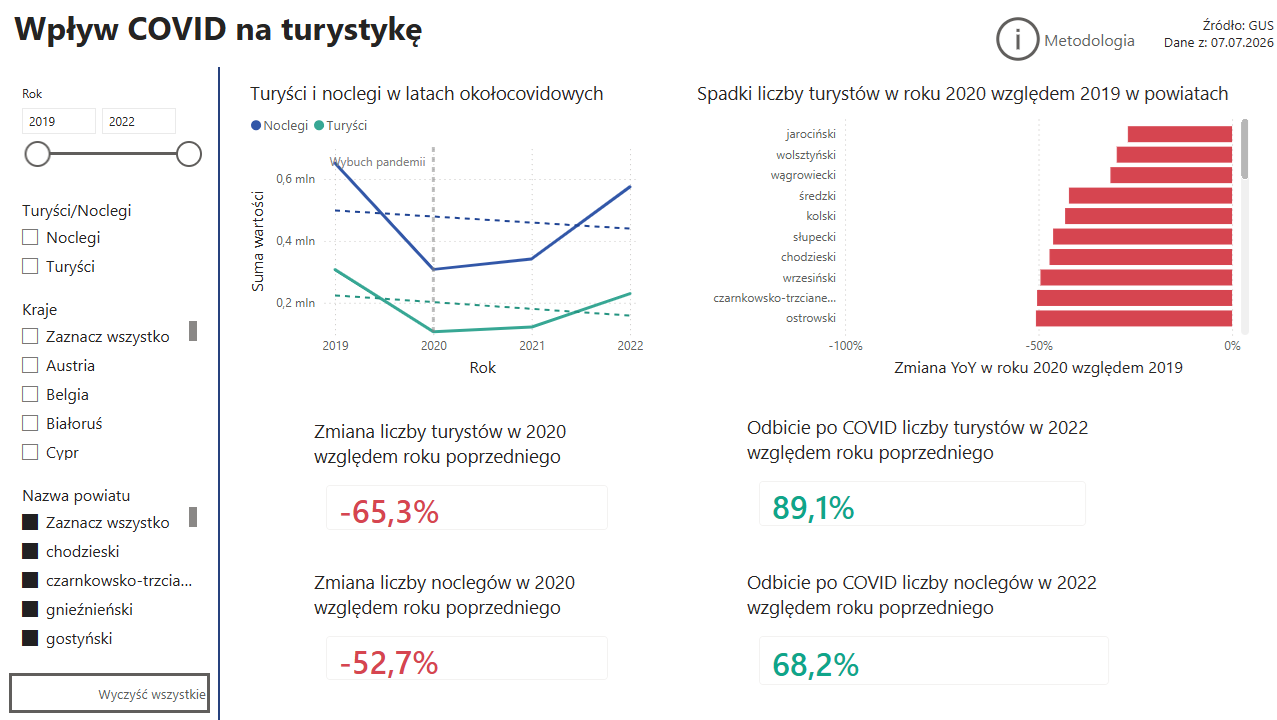

What the dashboard file says about the page in this screenshot:
{"tool":"powerbi","page":{"name":"Wpływ COVID","canvas":[1280,720],"ordinal":5},"visuals":[{"type":"slicer","fields":{"Values":["DANE_Wielkopolska.Rok"]},"box":[9.7,79.8,201.3,99.2],"z":1000},{"type":"shape","box":[211.1,67.1,17.5,652.6],"z":2000},{"type":"slicer","fields":{"Values":["DANE_Wielkopolska.Kraje"]},"box":[9.7,292.8,193.6,172.2],"z":3000},{"type":"slicer","fields":{"Values":["DANE_Wielkopolska.Nazwa powiatu"]},"box":[9.7,479,193.6,179.9],"z":5000},{"type":"textbox","box":[9.7,0,792.7,59.3],"z":6000},{"type":"slicer","fields":{"Values":["DANE_Wielkopolska.Turyści/Noclegi - etykieta"]},"box":[9.7,193.6,193.6,99.2],"z":7000},{"type":"actionButton","box":[9.7,673.1,201.3,39.9],"z":8000},{"type":"cardVisual","title":"Zmiana  liczby noclegów w 2020 względem roku poprzedniego","fields":{"Data":["DANE_Wielkopolska.Przyrost_YoY"]},"box":[310.3,569,316.1,128.4],"z":13000},{"type":"textbox","box":[1122.1,10.7,157.6,56.4],"z":14000},{"type":"lineChart","title":"Turyści i noclegi w latach okołocovidowych","fields":{"Category":["DANE_Wielkopolska.Rok"],"Series":["DANE_Wielkopolska.Turyści/Noclegi - etykieta"],"Y":["Sum(DANE_Wielkopolska.Wartosc)"]},"box":[246.1,79.8,402.7,302.5],"z":16000},{"type":"actionButton","box":[991.1,10.7,148.8,56.4],"z":18000},{"type":"cardVisual","title":"Zmiana  liczby turystów w 2020 względem roku poprzedniego","fields":{"Data":["DANE_Wielkopolska.Przyrost_YoY"]},"box":[310.3,418.2,316.1,128.4],"z":18001},{"type":"cardVisual","title":"Odbicie po COVID liczby noclegów w 2022 względem roku poprzedniego","fields":{"Data":["DANE_Wielkopolska.Przyrost_YoY"]},"box":[743.1,569,384.2,133.3],"z":18002},{"type":"cardVisual","title":"Odbicie po COVID liczby turystów w 2022 względem roku poprzedniego","fields":{"Data":["DANE_Wielkopolska.Przyrost_YoY"]},"box":[743.1,414.3,360.9,128.4],"z":18003},{"type":"clusteredBarChart","title":"Spadki liczby turystów w roku 2020 względem 2019 w powiatach","fields":{"Category":["DANE_Wielkopolska.Nazwa powiatu"],"Y":["DANE_Wielkopolska.Przyrost_YoY"]},"box":[693.5,79.8,561.2,302.5],"z":18004}]}

Visuals, with their boxes in screenshot pixels (x1, y1, x2, y2), scaled from the page's 1280x720 canvas onto the 1277x720 screenshot:
slicer - DANE_Wielkopolska.Rok: <box>10,80,211,179</box>
shape: <box>211,67,228,719</box>
slicer - DANE_Wielkopolska.Kraje: <box>10,293,203,465</box>
slicer - DANE_Wielkopolska.Nazwa powiatu: <box>10,479,203,659</box>
textbox: <box>10,0,801,59</box>
slicer - DANE_Wielkopolska.Turyści/Noclegi - etykieta: <box>10,194,203,293</box>
actionButton: <box>10,673,211,713</box>
"Zmiana  liczby noclegów w 2020 względem roku poprzedniego" cardVisual: <box>310,569,625,697</box>
textbox: <box>1119,11,1276,67</box>
"Turyści i noclegi w latach okołocovidowych" lineChart: <box>246,80,647,382</box>
actionButton: <box>989,11,1137,67</box>
"Zmiana  liczby turystów w 2020 względem roku poprzedniego" cardVisual: <box>310,418,625,547</box>
"Odbicie po COVID liczby noclegów w 2022 względem roku poprzedniego" cardVisual: <box>741,569,1125,702</box>
"Odbicie po COVID liczby turystów w 2022 względem roku poprzedniego" cardVisual: <box>741,414,1101,543</box>
"Spadki liczby turystów w roku 2020 względem 2019 w powiatach" clusteredBarChart: <box>692,80,1252,382</box>
